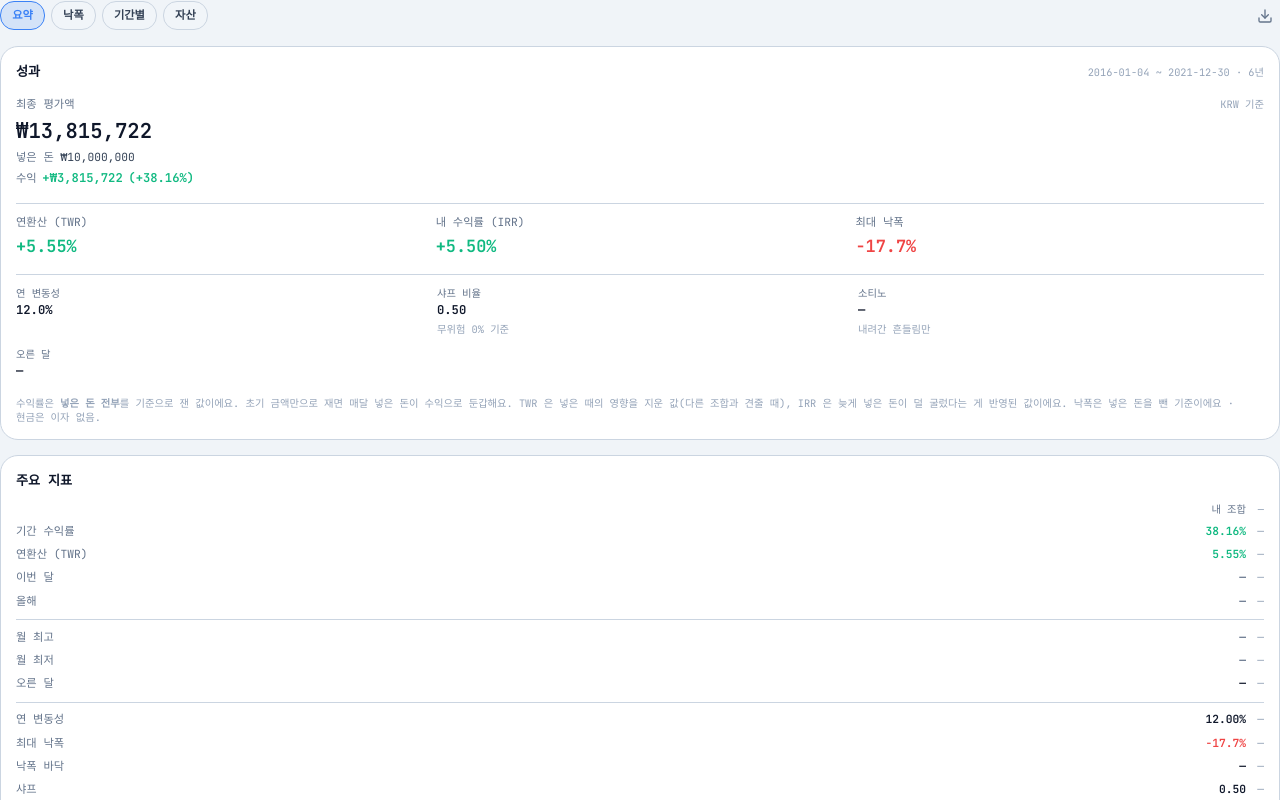
Test: 벤치마크가 없거나 해마다를 안 줬을 때 › 벤치마크가 없으면 견주는 줄을 안 그린다
Click the tab "기간별" at x=130, y=16, box [102,1,157,30]
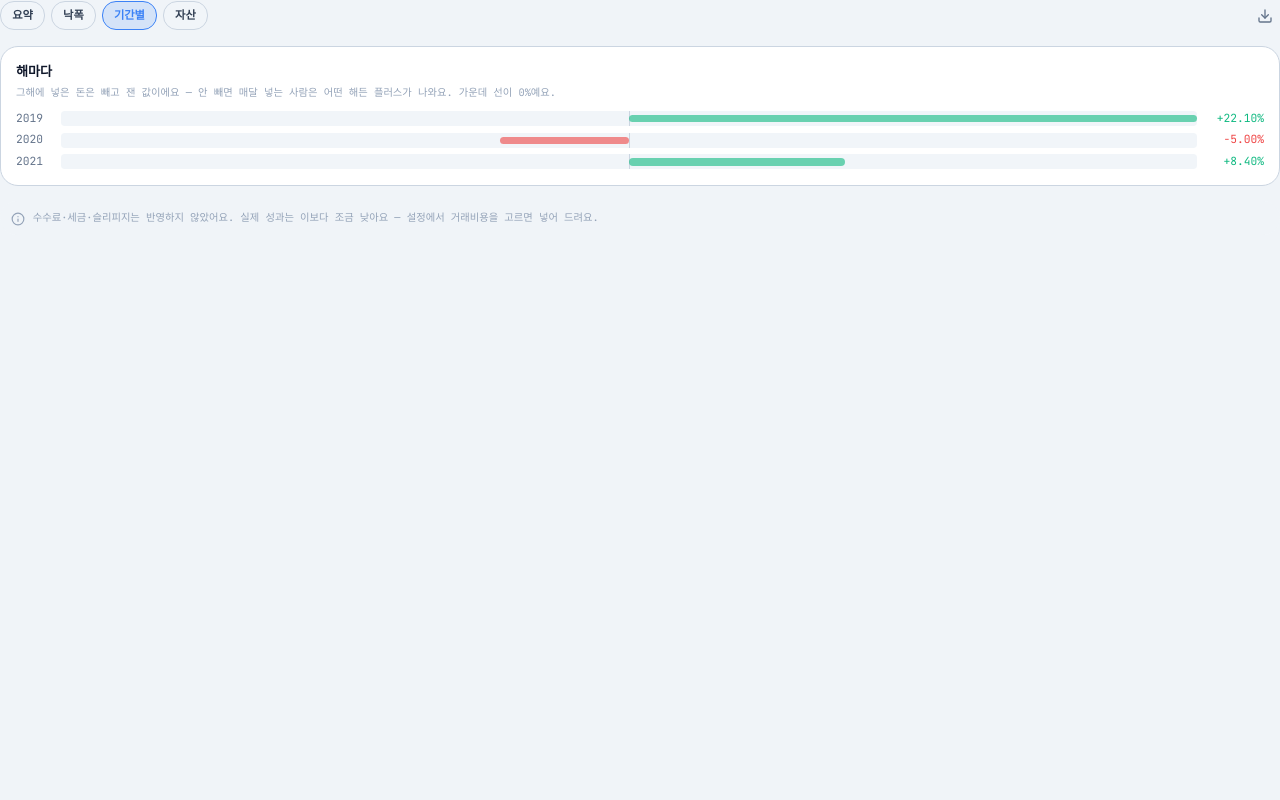
Expected: the text "내 조합" is gone
